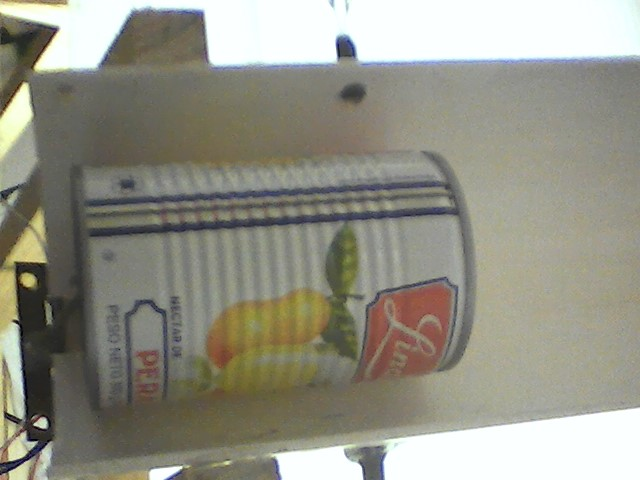lata: (64, 145, 483, 413)
